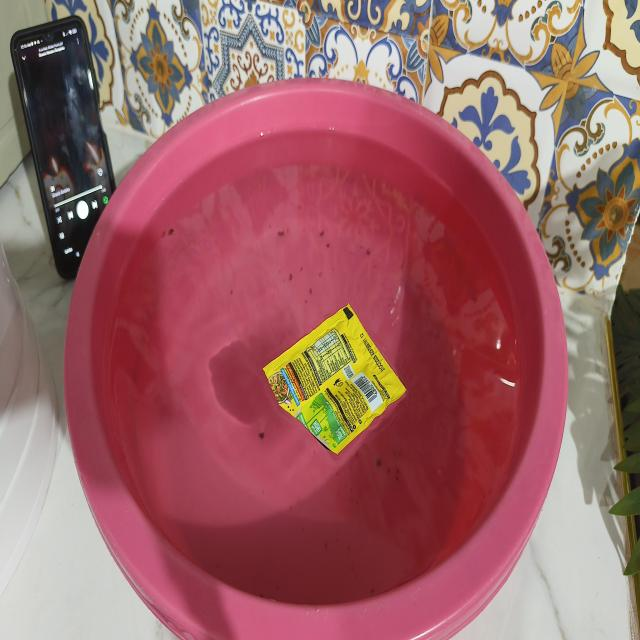Plastic Pouch: (264, 305, 405, 454)
